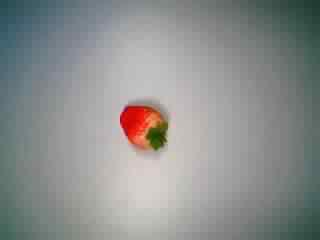strawberry: (109, 95, 175, 161)
